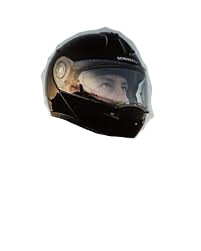com_capacete: (40, 27, 151, 138)
